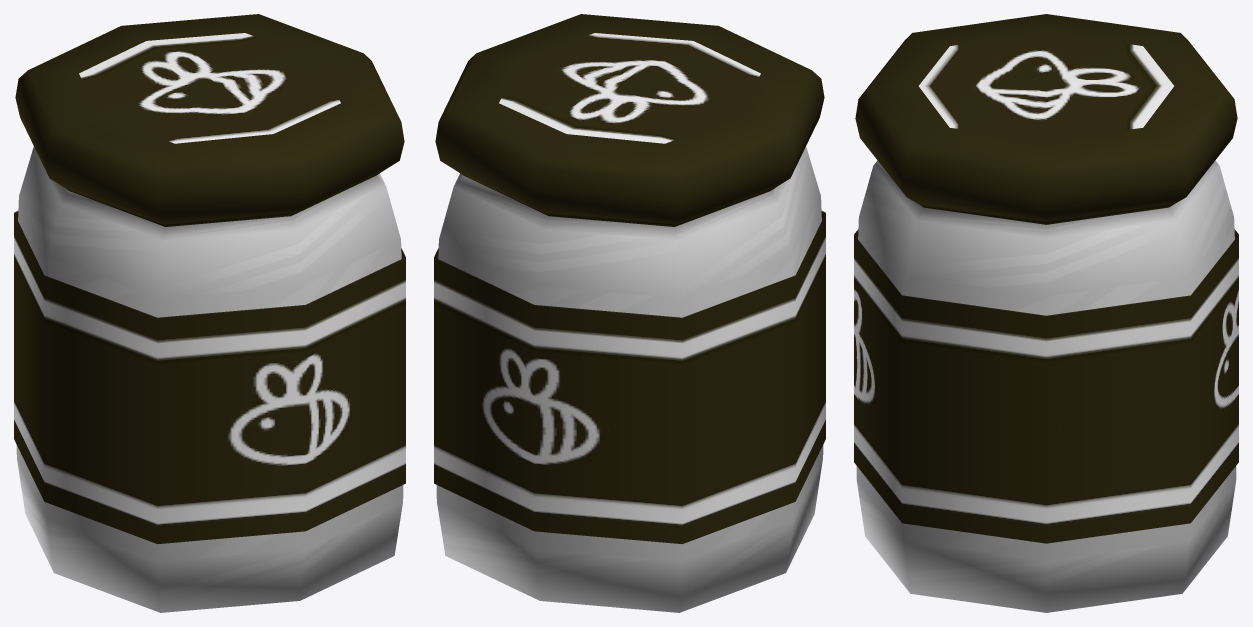
The model's file is Honey.fbx.
The picture shows the model from 3 angles, left to right: view 1: azimuth 30°, elevation 25°; view 2: azimuth 150°, elevation 25°; view 3: azimuth 270°, elevation 25°; orthographic projection.
Parts seen in each view (by area): view 1: MilkJar; view 2: MilkJar; view 3: MilkJar.
Part boxes in pixels (left/top/right/bottom): MilkJar: left=14, top=14, right=405, bottom=612; MilkJar: left=434, top=14, right=825, bottom=612; MilkJar: left=854, top=14, right=1238, bottom=612.
Bounding box in the file's own units: 0.5413 × 0.7263 × 0.5413.
3 materials, 2 textured.
